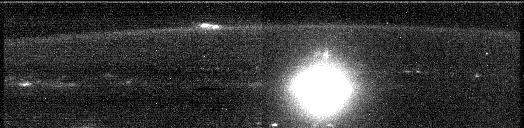positive: (310, 46, 331, 62)
